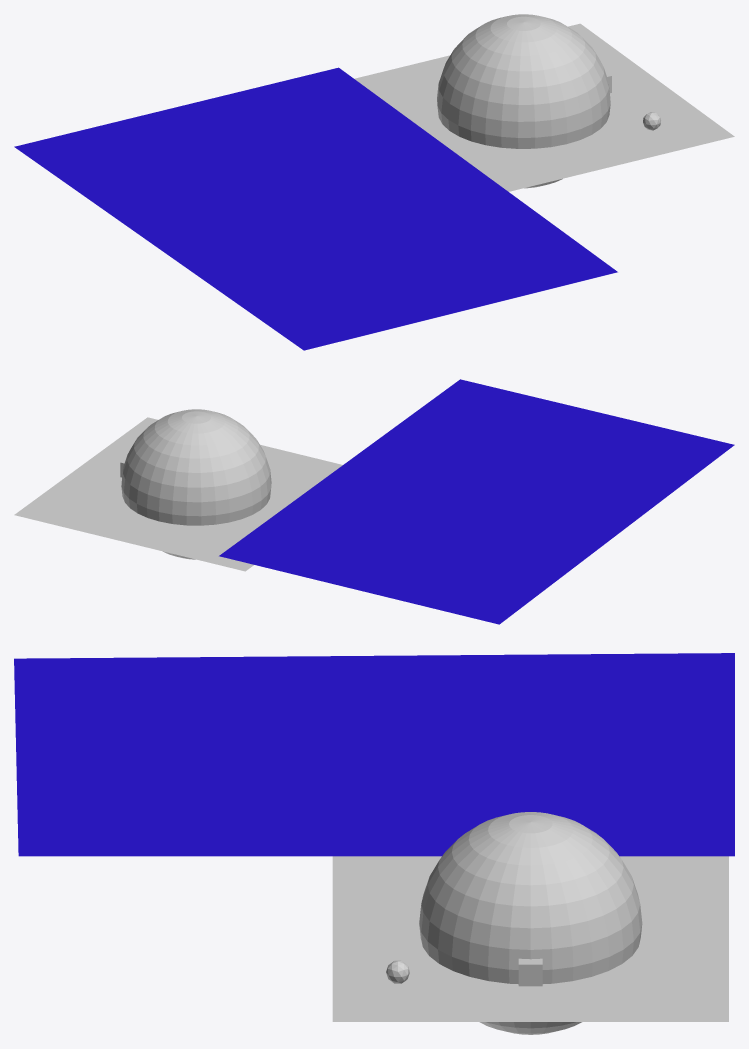
File: The SceneD.fbx
3 renders of one model, top to bottom at view 1: azimuth 30°, elevation 25°; view 2: azimuth 150°, elevation 25°; view 3: azimuth 270°, elevation 25°, orthographic. The views are drawn at different scales.
Visible parts, largest first — view 1: Water_object, SkyObject, Plane; view 2: Water_object, SkyObject, Plane; view 3: Water_object, Plane, SkyObject, Cube.004.
Part boxes in pixels (x1,y1,x2,y2): Water_object: [14, 67, 617, 350]; SkyObject: [437, 14, 610, 188]; Plane: [354, 23, 734, 191]; Water_object: [219, 379, 734, 624]; SkyObject: [121, 409, 271, 559]; Plane: [14, 417, 342, 571]; Water_object: [14, 653, 734, 856]; Plane: [332, 856, 728, 1021]; SkyObject: [419, 812, 642, 1034]; Cube.004: [518, 958, 542, 986].
Bounding box in the file's own units: 6946 × 1858 × 6000.
